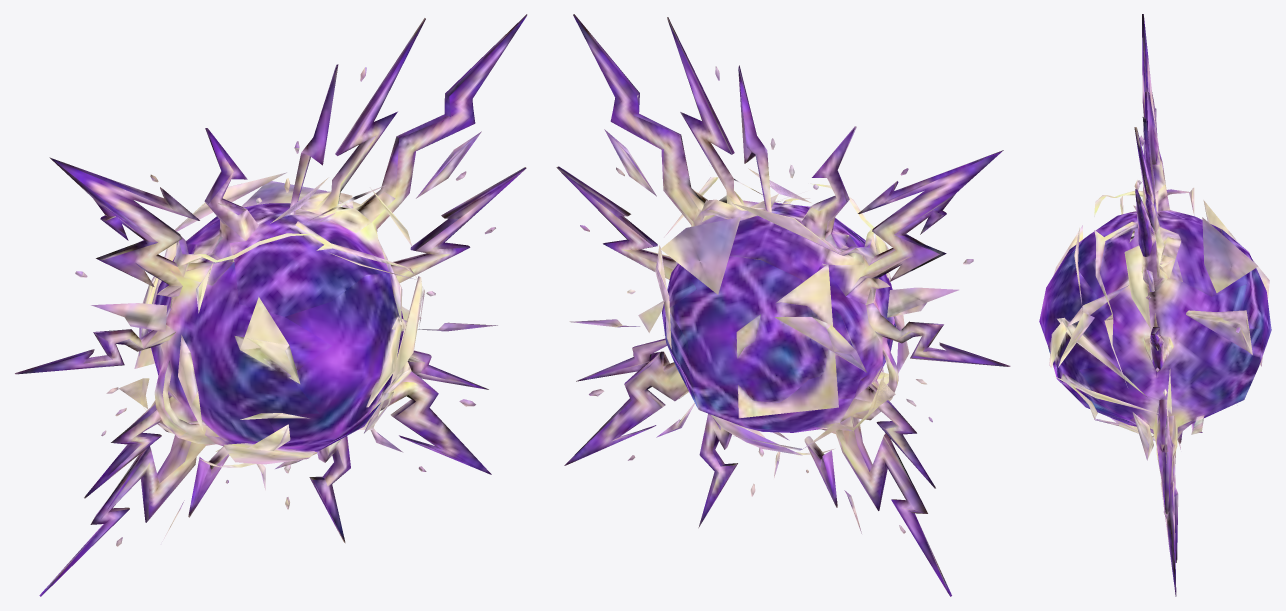
Rendered from bolt_storm.glb.
The picture shows the model from 3 angles, left to right: view 1: azimuth 30°, elevation 25°; view 2: azimuth 150°, elevation 25°; view 3: azimuth 270°, elevation 25°; orthographic projection. The views are drawn at different scales.
Parts seen in each view (by area): view 1: bolt_storm; view 2: bolt_storm; view 3: bolt_storm.
Boxes of the visible parts, x1,y1,x2,y2 form: bolt_storm: (15,14,527,596); bolt_storm: (556,14,1010,596); bolt_storm: (1039,14,1271,596).
Bounding box in the file's own units: 0.9974 × 1 × 0.4572.
Materials: 1 (1 with a texture image).
